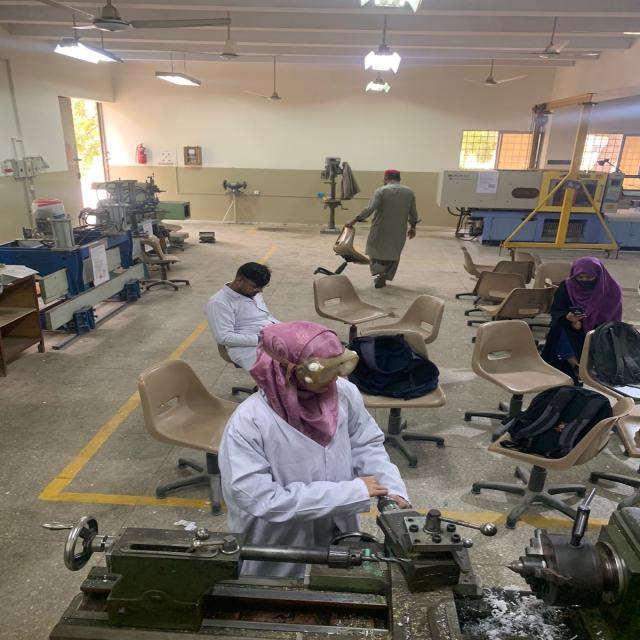googles: (299, 348, 362, 384)
labcoat: (217, 388, 416, 548), (205, 286, 286, 371)
